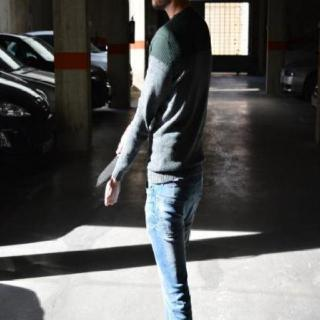knife: (96, 152, 120, 188)
